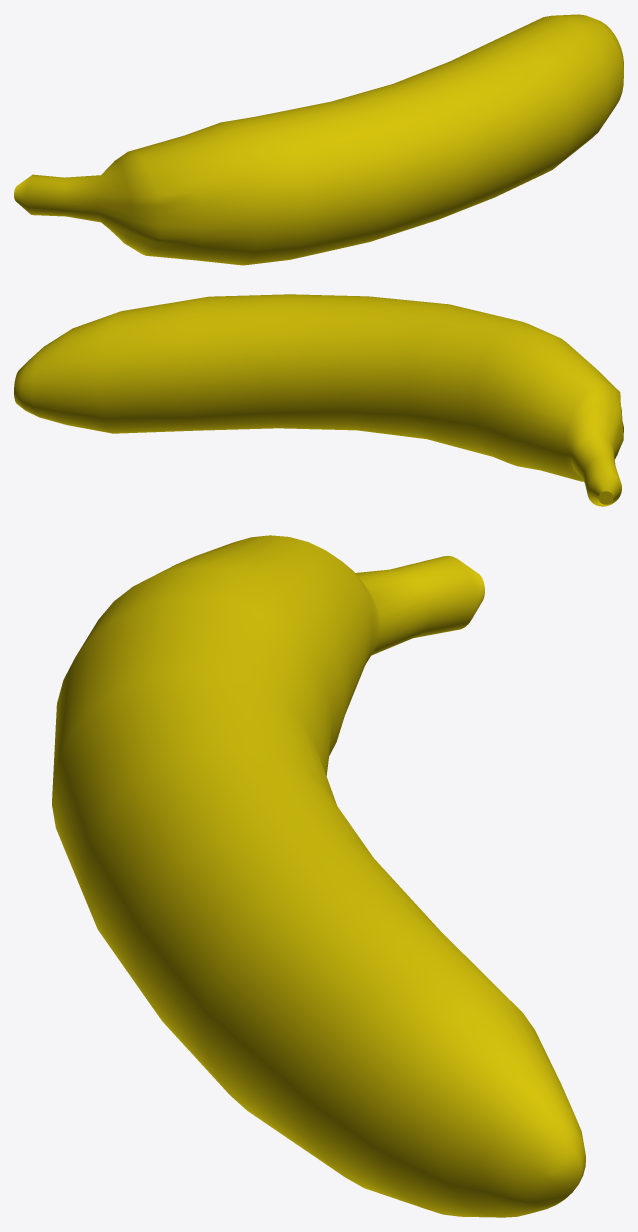
Rendered from banana_01.fbx.
3 views of the same model, one above another, from view 1: azimuth 30°, elevation 25°; view 2: azimuth 150°, elevation 25°; view 3: azimuth 270°, elevation 25° (orthographic). The views are drawn at different scales.
Visible parts, largest first — view 1: Banana; view 2: Banana; view 3: Banana.
Boxes of the visible parts, bbox=[...] form: Banana: bbox=[14, 14, 623, 265]; Banana: bbox=[14, 294, 623, 506]; Banana: bbox=[52, 535, 585, 1217].
Bounding box in the file's own units: 9.93 × 2.29 × 3.97.
